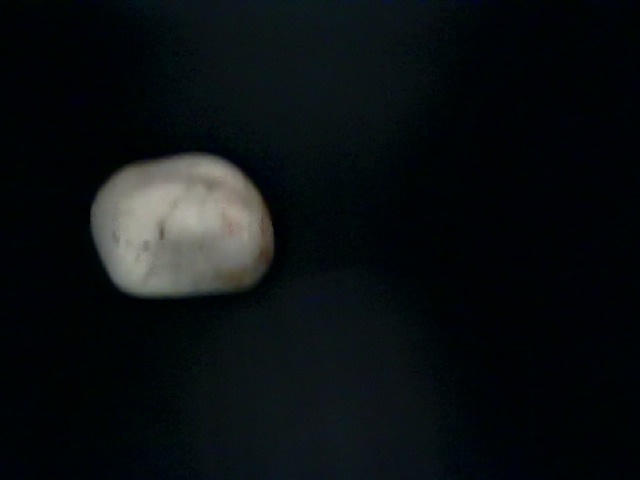QTLJ: (464, 212, 640, 466)
